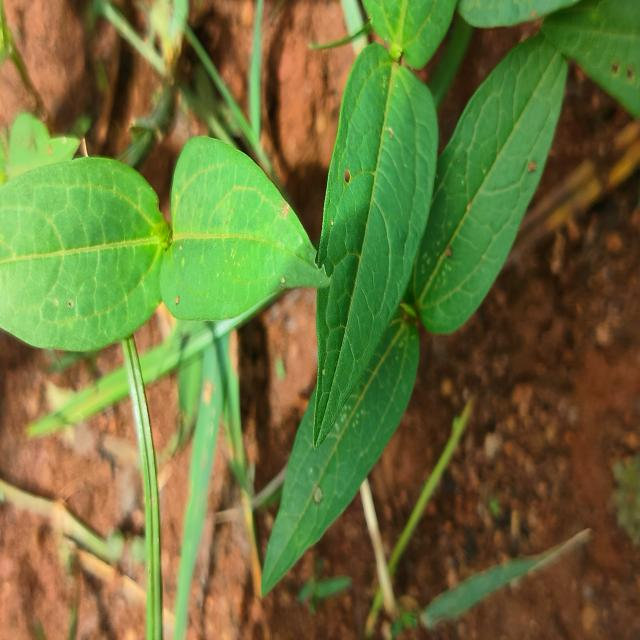Black gram_healthy: (410, 0, 588, 338), (314, 49, 434, 448), (258, 309, 420, 596), (160, 135, 328, 321)
